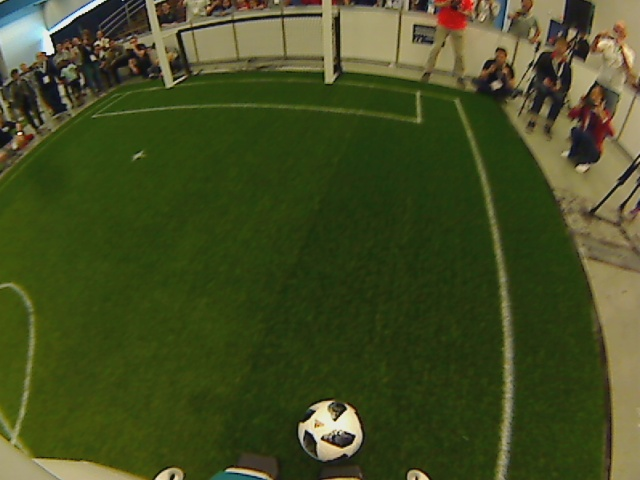ball: (295, 398, 364, 463)
